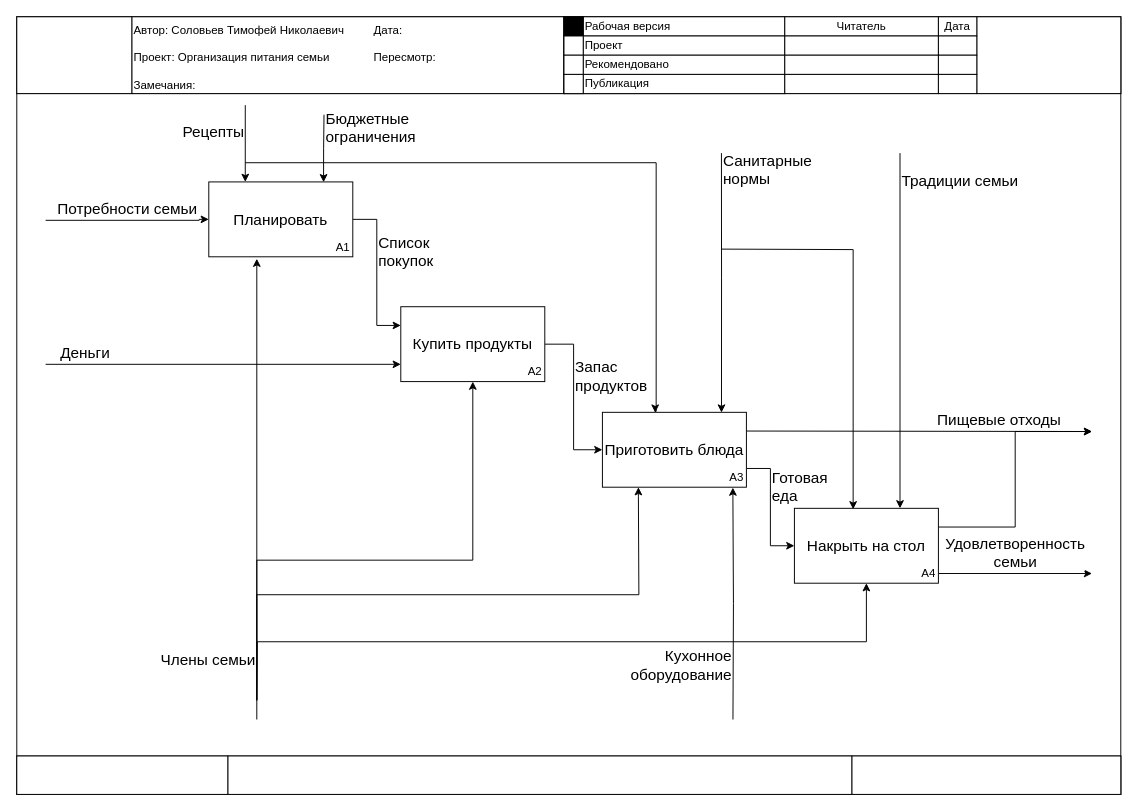
The diagram is 1138 pixels wide and 811 high, and some of its shapes have lost their labels. Each missing label, with the centre of its shape:
Вершина: A0: pixel 122 774
Заголовок: Организовать питание семьи (подробно): pixel 539 774
Используется в:: pixel 74 55
Контекст:: pixel 1048 55
Номер:: pixel 986 774
